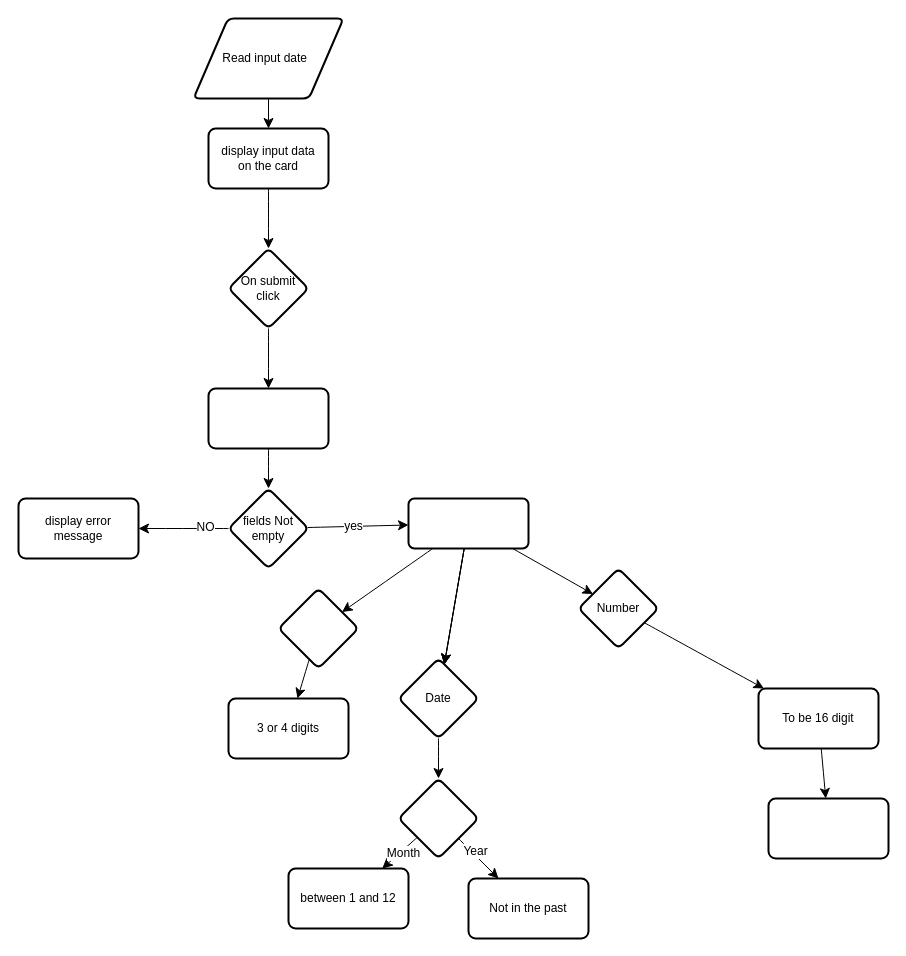
The diagram is 906 pixels wide and 956 high, and some of its shapes have lost their labels. The centre of each missing label's shape, as x and y in pixels:
"CVV" goes at point 318,628.
"Formatting the 16 digits for each 4 digits" goes at point 828,828.
"Month/Year" goes at point 438,818.
"Validate each field on his own" goes at point 468,523.
"Validate the fileds" goes at point 268,418.
